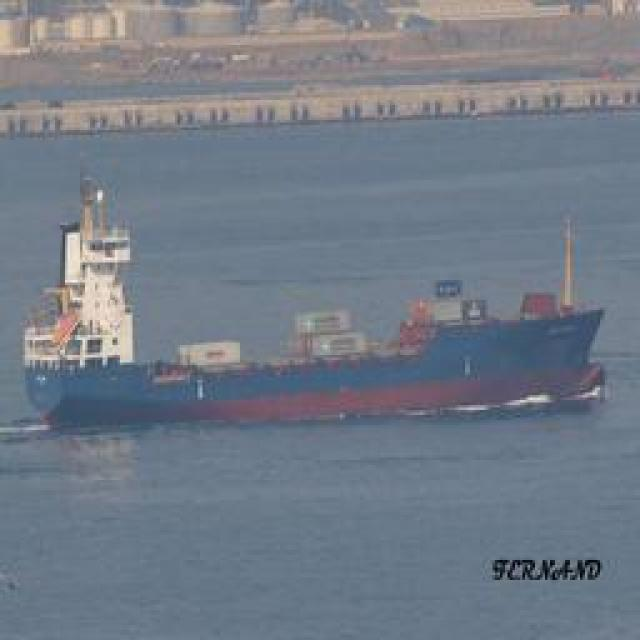CIV_Ship: (29, 208, 606, 422)
